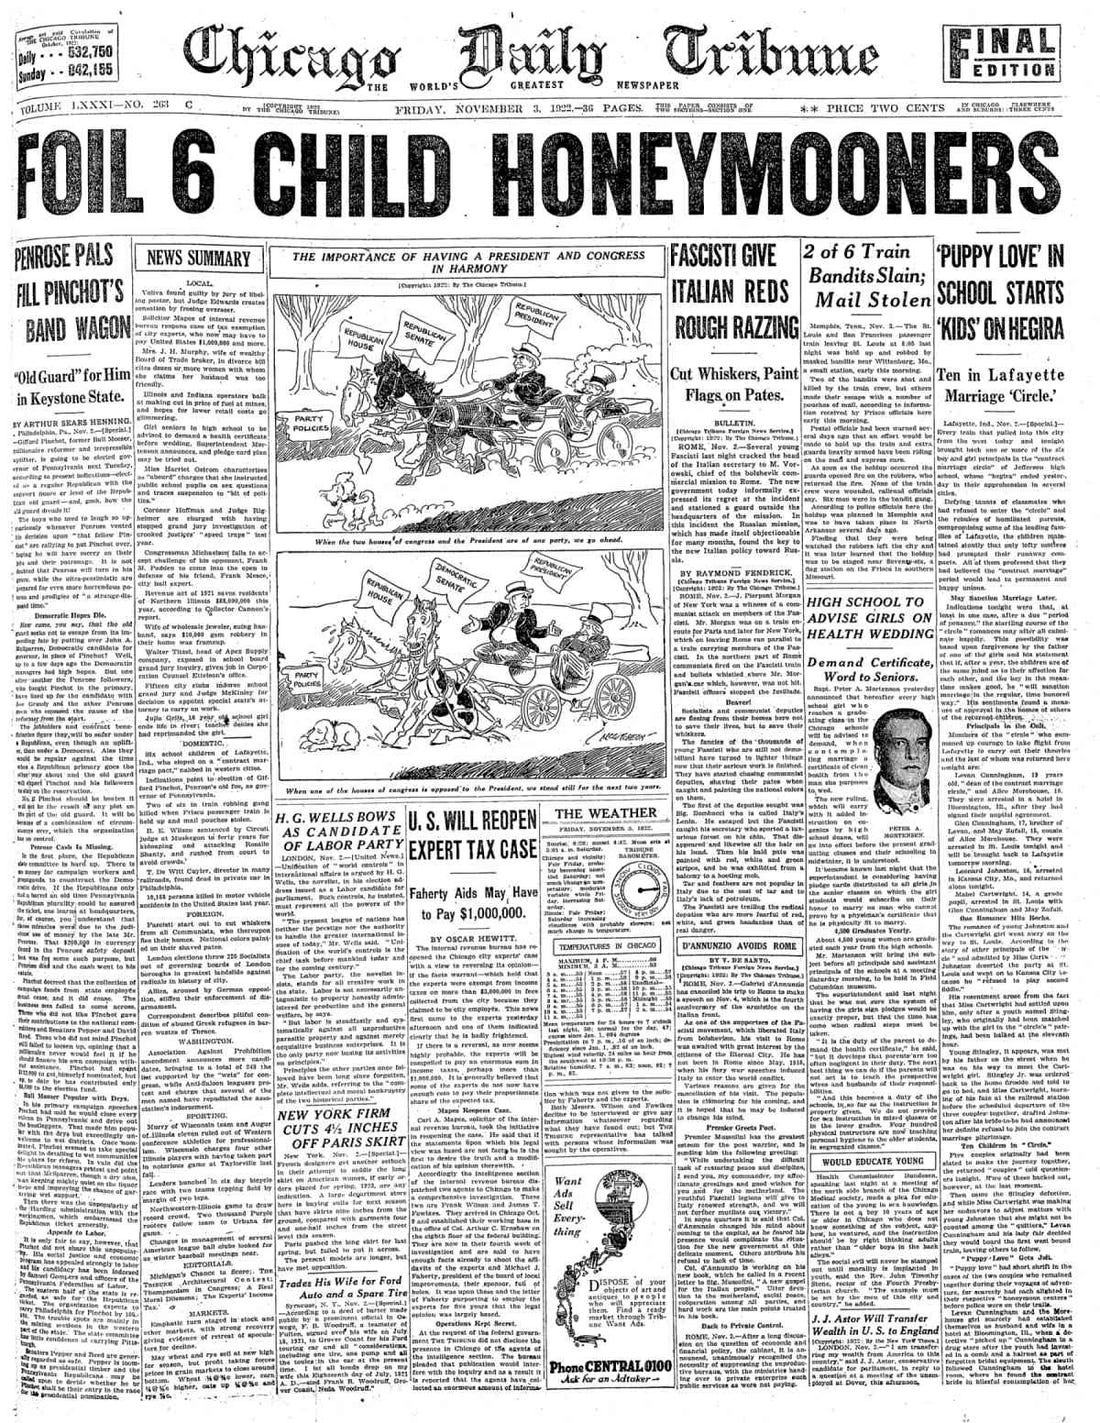news_paper: (7, 9, 1082, 1423)
